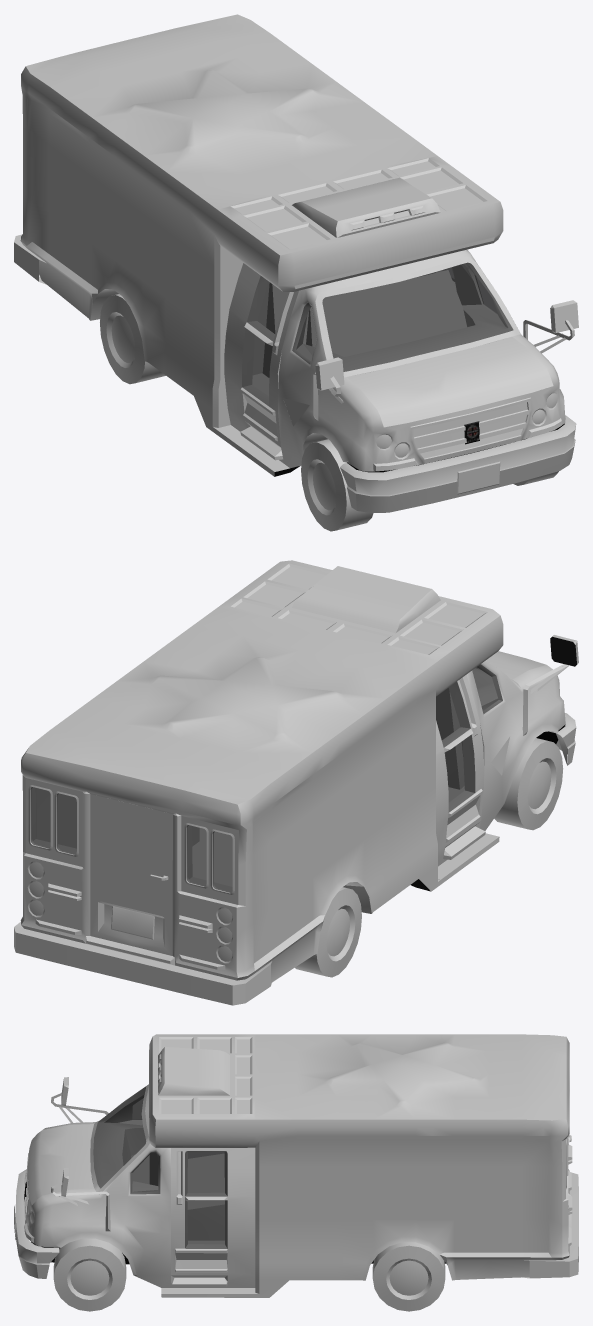
3 renders of one model, top to bottom at view 1: azimuth 30°, elevation 25°; view 2: azimuth 150°, elevation 25°; view 3: azimuth 270°, elevation 25°, orthographic. The views are drawn at different scales.
Visible parts, largest first — view 1: Mesh_1_Body_NReflect_0, Mesh_18_Glass_0, Mesh_15_Body_NReflect_0, Mesh_13_Body_NReflect_0, Mesh_11_Body_NReflect_0, Mesh_12_Glass_0, Mesh_17_Body_NReflect_0, Mesh_19_Wheel_0, Mesh_23_Wheel_0, Mesh_2_Glass_0, Mesh_20_Wheel_0, Mesh_24_Wheel_0 (+2 smaller); view 2: Mesh_1_Body_NReflect_0, Mesh_16_Body_NReflect_0, Mesh_14_Body_NReflect_0, Mesh_11_Body_NReflect_0, Mesh_2_Glass_0, Mesh_12_Glass_0, Mesh_19_Wheel_0, Mesh_23_Wheel_0, Mesh_15_Body_NReflect_0, Mesh_24_Wheel_0, Mesh_20_Wheel_0, Mesh_13_Body_NReflect_0 (+1 smaller); view 3: Mesh_1_Body_NReflect_0, Mesh_9_Body_NReflect_0, Mesh_10_Glass_0, Mesh_15_Body_NReflect_0, Mesh_21_Wheel_0, Mesh_18_Glass_0, Mesh_25_Wheel_0, Mesh_13_Body_NReflect_0, Mesh_14_Body_NReflect_0, Mesh_2_Glass_0, Mesh_22_Wheel_0, Mesh_26_Wheel_0 (+1 smaller).
Boxes of the visible parts, box(x1,y1,x2,y2) form: Mesh_1_Body_NReflect_0: box(20, 14, 578, 476); Mesh_18_Glass_0: box(322, 262, 513, 371); Mesh_15_Body_NReflect_0: box(347, 336, 553, 427); Mesh_13_Body_NReflect_0: box(340, 415, 576, 513); Mesh_11_Body_NReflect_0: box(224, 263, 298, 463); Mesh_12_Glass_0: box(242, 276, 287, 405); Mesh_17_Body_NReflect_0: box(315, 256, 520, 377); Mesh_19_Wheel_0: box(301, 439, 373, 531); Mesh_23_Wheel_0: box(100, 294, 165, 384); Mesh_2_Glass_0: box(292, 276, 496, 364); Mesh_20_Wheel_0: box(313, 462, 336, 510); Mesh_24_Wheel_0: box(111, 315, 135, 362); Mesh_1_Body_NReflect_0: box(20, 560, 578, 982); Mesh_16_Body_NReflect_0: box(90, 794, 172, 955); Mesh_14_Body_NReflect_0: box(14, 922, 271, 1005); Mesh_11_Body_NReflect_0: box(436, 674, 485, 866); Mesh_2_Glass_0: box(30, 664, 502, 892); Mesh_12_Glass_0: box(436, 682, 475, 812); Mesh_19_Wheel_0: box(494, 738, 563, 830); Mesh_23_Wheel_0: box(295, 887, 361, 977); Mesh_15_Body_NReflect_0: box(486, 651, 546, 679); Mesh_24_Wheel_0: box(326, 908, 349, 956); Mesh_20_Wheel_0: box(527, 761, 551, 809); Mesh_13_Body_NReflect_0: box(556, 713, 576, 765); Mesh_1_Body_NReflect_0: box(23, 1034, 572, 1297); Mesh_9_Body_NReflect_0: box(171, 1147, 255, 1287); Mesh_10_Glass_0: box(185, 1151, 227, 1248); Mesh_15_Body_NReflect_0: box(28, 1124, 93, 1205); Mesh_21_Wheel_0: box(53, 1238, 126, 1311); Mesh_18_Glass_0: box(93, 1087, 145, 1188); Mesh_25_Wheel_0: box(372, 1242, 445, 1311); Mesh_13_Body_NReflect_0: box(14, 1169, 59, 1278); Mesh_14_Body_NReflect_0: box(522, 1172, 578, 1278); Mesh_2_Glass_0: box(130, 1099, 160, 1194); Mesh_22_Wheel_0: box(70, 1260, 109, 1295); Mesh_26_Wheel_0: box(389, 1260, 428, 1295).
Bounding box in the file's own units: 2.42 × 2.29 × 5.73.
